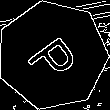P_NE: (21, 26, 84, 85)
